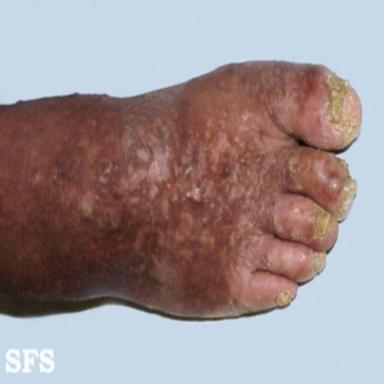Darier_s-Disease: (323, 68, 362, 150), (333, 156, 356, 222)
